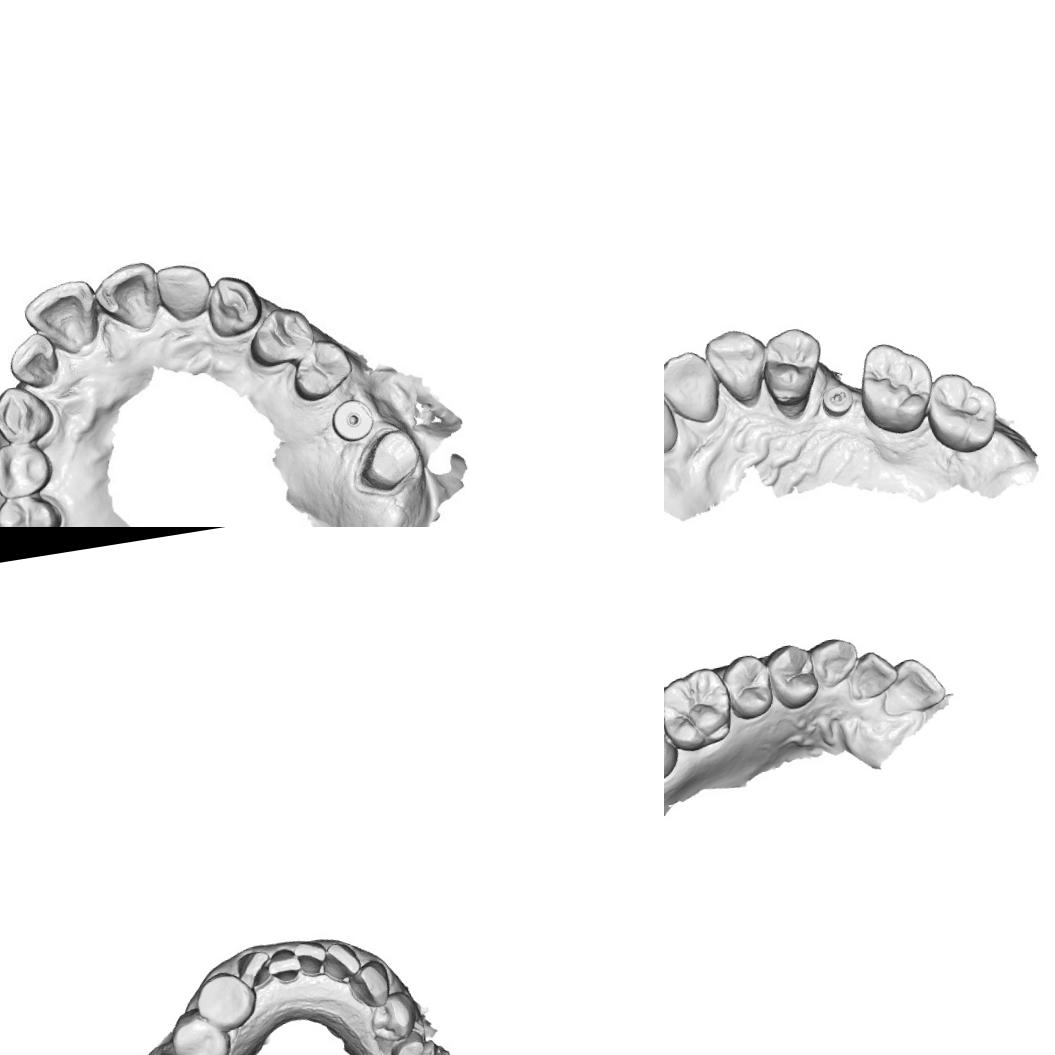canine: (699, 324, 776, 416), (190, 966, 260, 1036), (200, 270, 261, 338), (0, 380, 53, 450), (805, 634, 862, 693), (346, 955, 397, 1012)
crown: (352, 426, 426, 498), (385, 1024, 433, 1055)
implant: (329, 397, 374, 448)
implant_minus: (819, 381, 856, 420)
incisor: (18, 278, 103, 363), (88, 256, 165, 339), (664, 347, 725, 432), (877, 654, 949, 718), (154, 260, 212, 324), (6, 334, 66, 394), (841, 647, 902, 703), (231, 936, 272, 992), (318, 938, 364, 986), (290, 934, 330, 980), (265, 943, 304, 986)
molar: (853, 336, 941, 440), (920, 365, 1004, 460), (664, 663, 739, 755)
premolar: (756, 324, 832, 423), (241, 305, 318, 372), (716, 648, 778, 724), (760, 640, 822, 713), (164, 1002, 235, 1055), (292, 340, 350, 396), (365, 988, 421, 1046), (0, 441, 49, 498), (0, 491, 63, 527)
